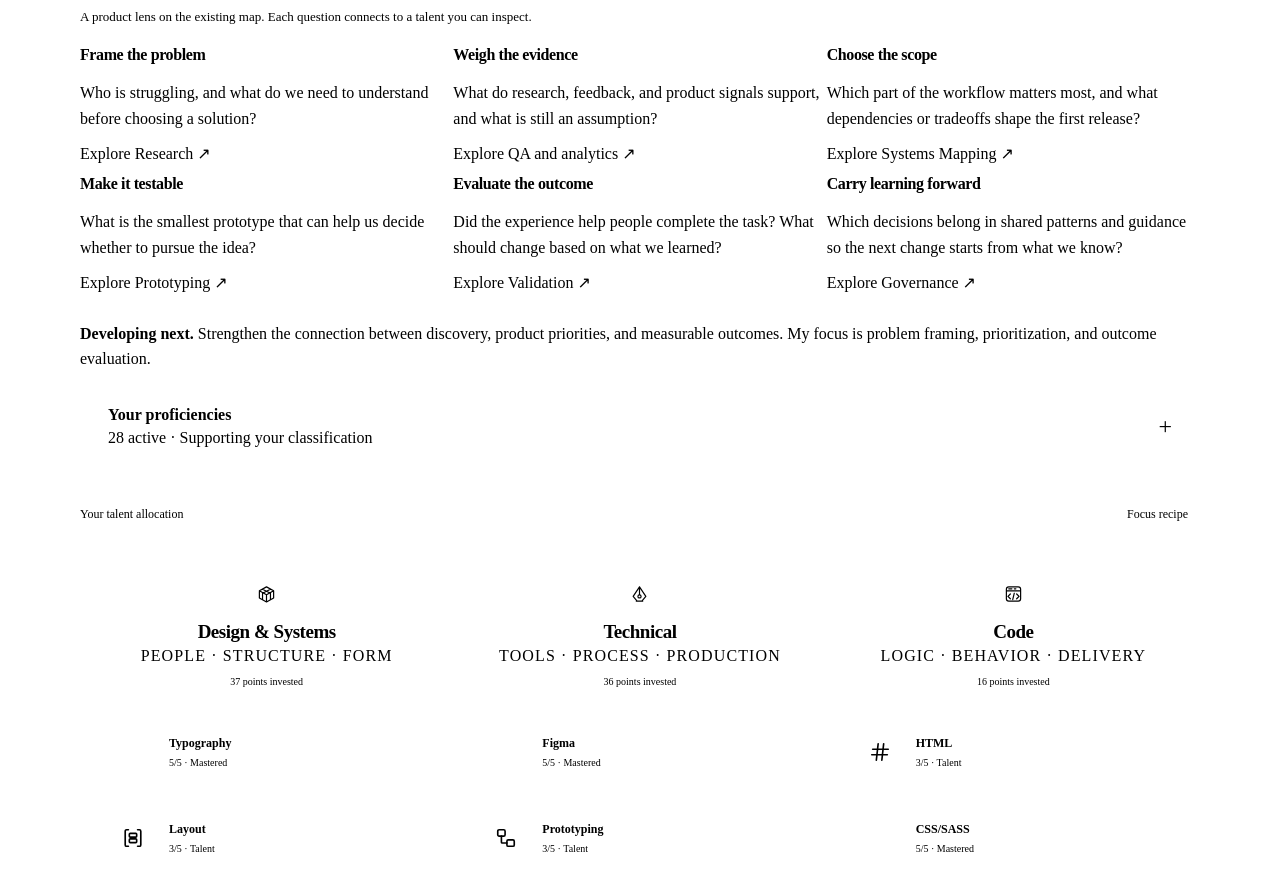
it: Ryan’s Forge preserves requested talents and a persistent class while browsing
(page scrolled)
What coordinates should you click on to do the following:
click the button "Your proficiencies"
I would click on:
 (170, 414)
Its box is [80,388,1200,465].
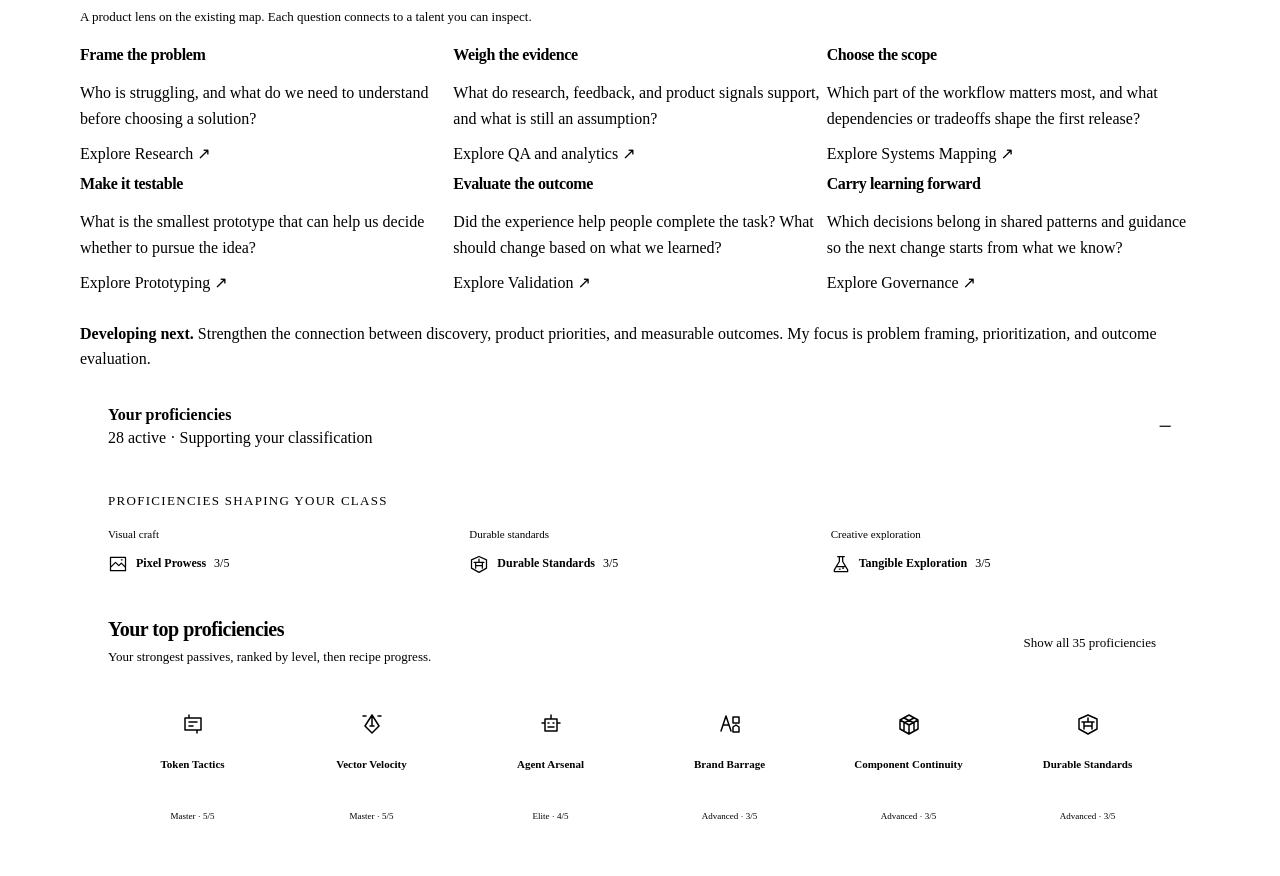
What coordinates should you click on to do the following:
click the button with aria-label "Vector Velocity. "
I would click on:
 (372, 762)
Its box is [287,685,456,839].
(page scrolled)
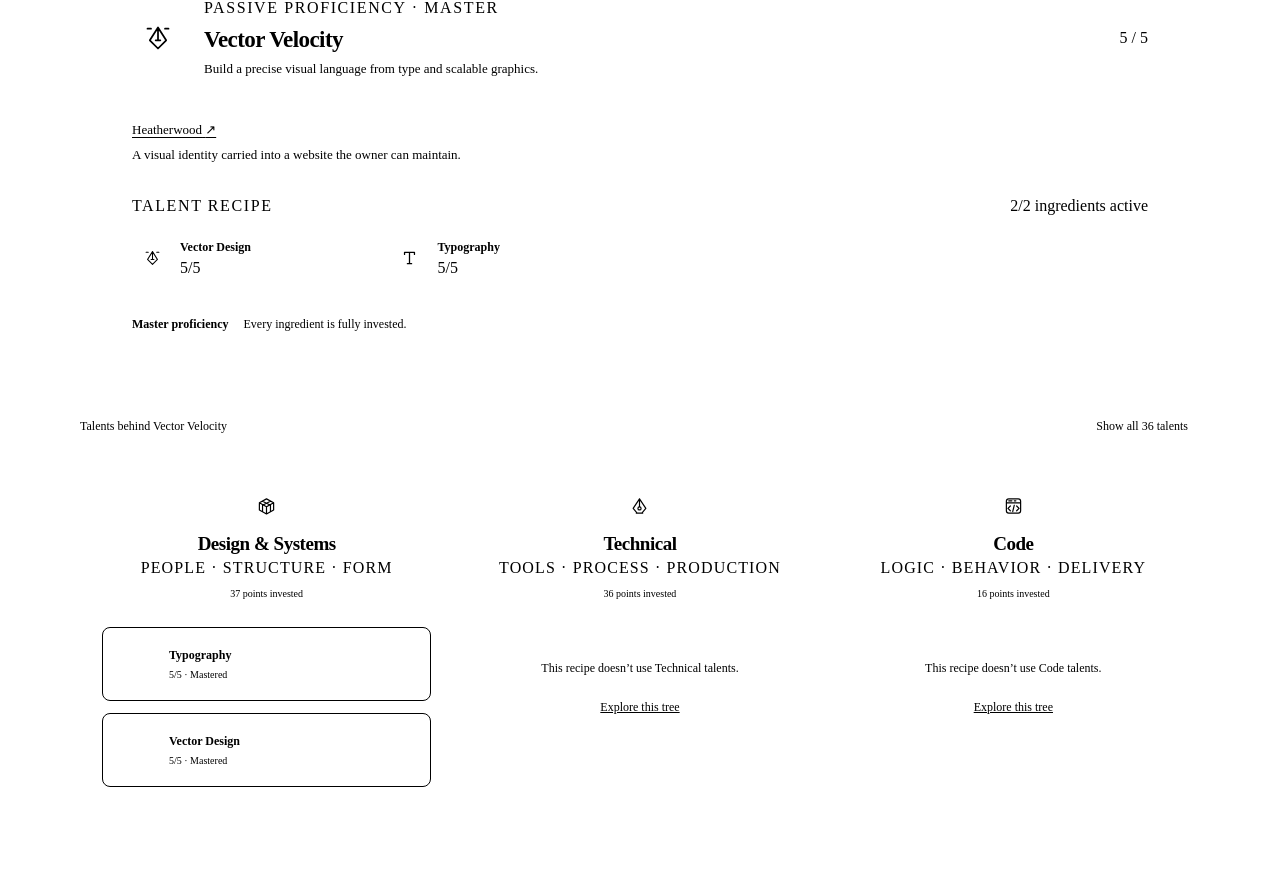
Check: the button with aria-label "Vector Design. 5 of 5" is shown, box [103,714,430,786]
What coordinates should you click on to do the following:
click the button "Show all 36 talents"
I would click on:
 (1142, 427)
Its box is [1084,405,1200,449].
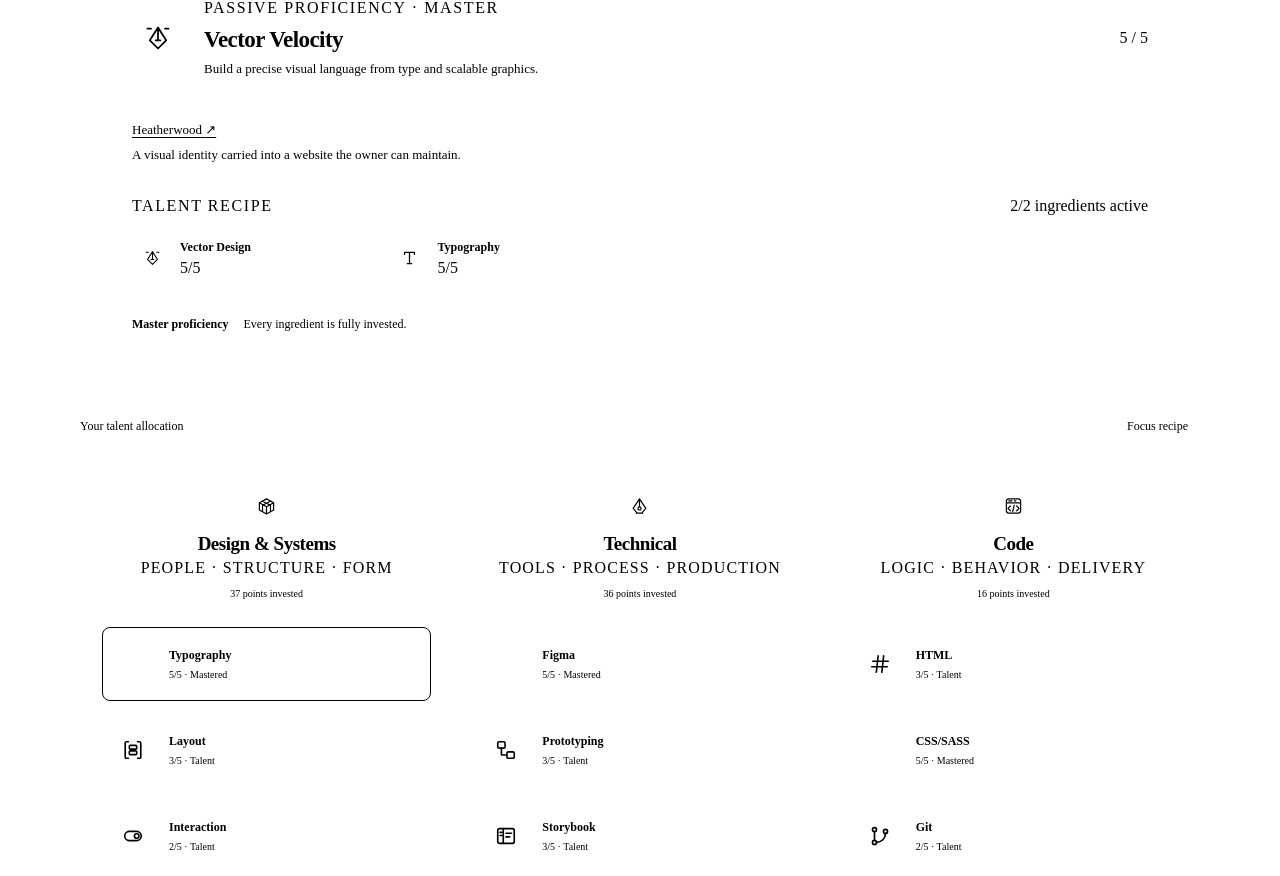
Check: the button with aria-label "CSS/SASS. 5 of 5" is shown, box [850,714,1177,786]
Check: the button with aria-label "HTML. 3 of 5" is shown, box [850,628,1177,700]
